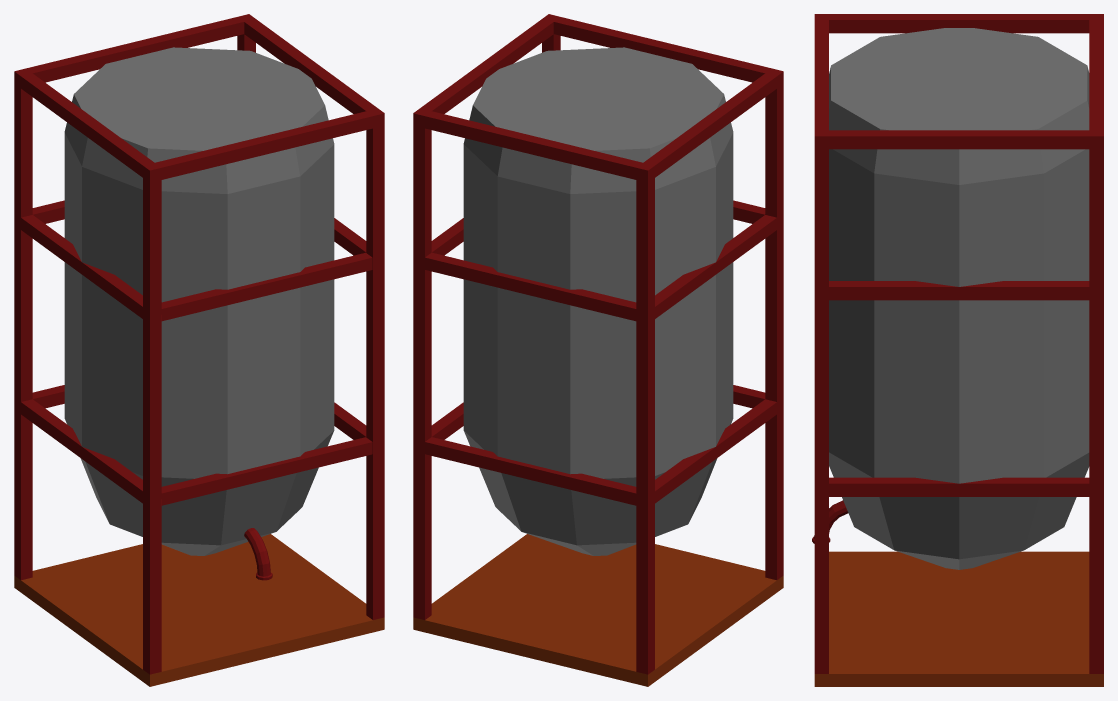
The model's file is IndustrialCylo.FBX.
The picture shows the model from 3 angles, left to right: view 1: azimuth 30°, elevation 25°; view 2: azimuth 150°, elevation 25°; view 3: azimuth 270°, elevation 25°; orthographic projection. The views are drawn at different scales.
Parts seen in each view (by area): view 1: Box005; view 2: Box005; view 3: Box005.
Boxes of the visible parts, x1=… form: Box005: x1=14, y1=14, x2=384, y2=686; Box005: x1=413, y1=14, x2=783, y2=686; Box005: x1=812, y1=14, x2=1103, y2=686.
Bounding box in the file's own units: 200 × 420 × 202.
